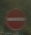No entry: (5, 5, 26, 30)
